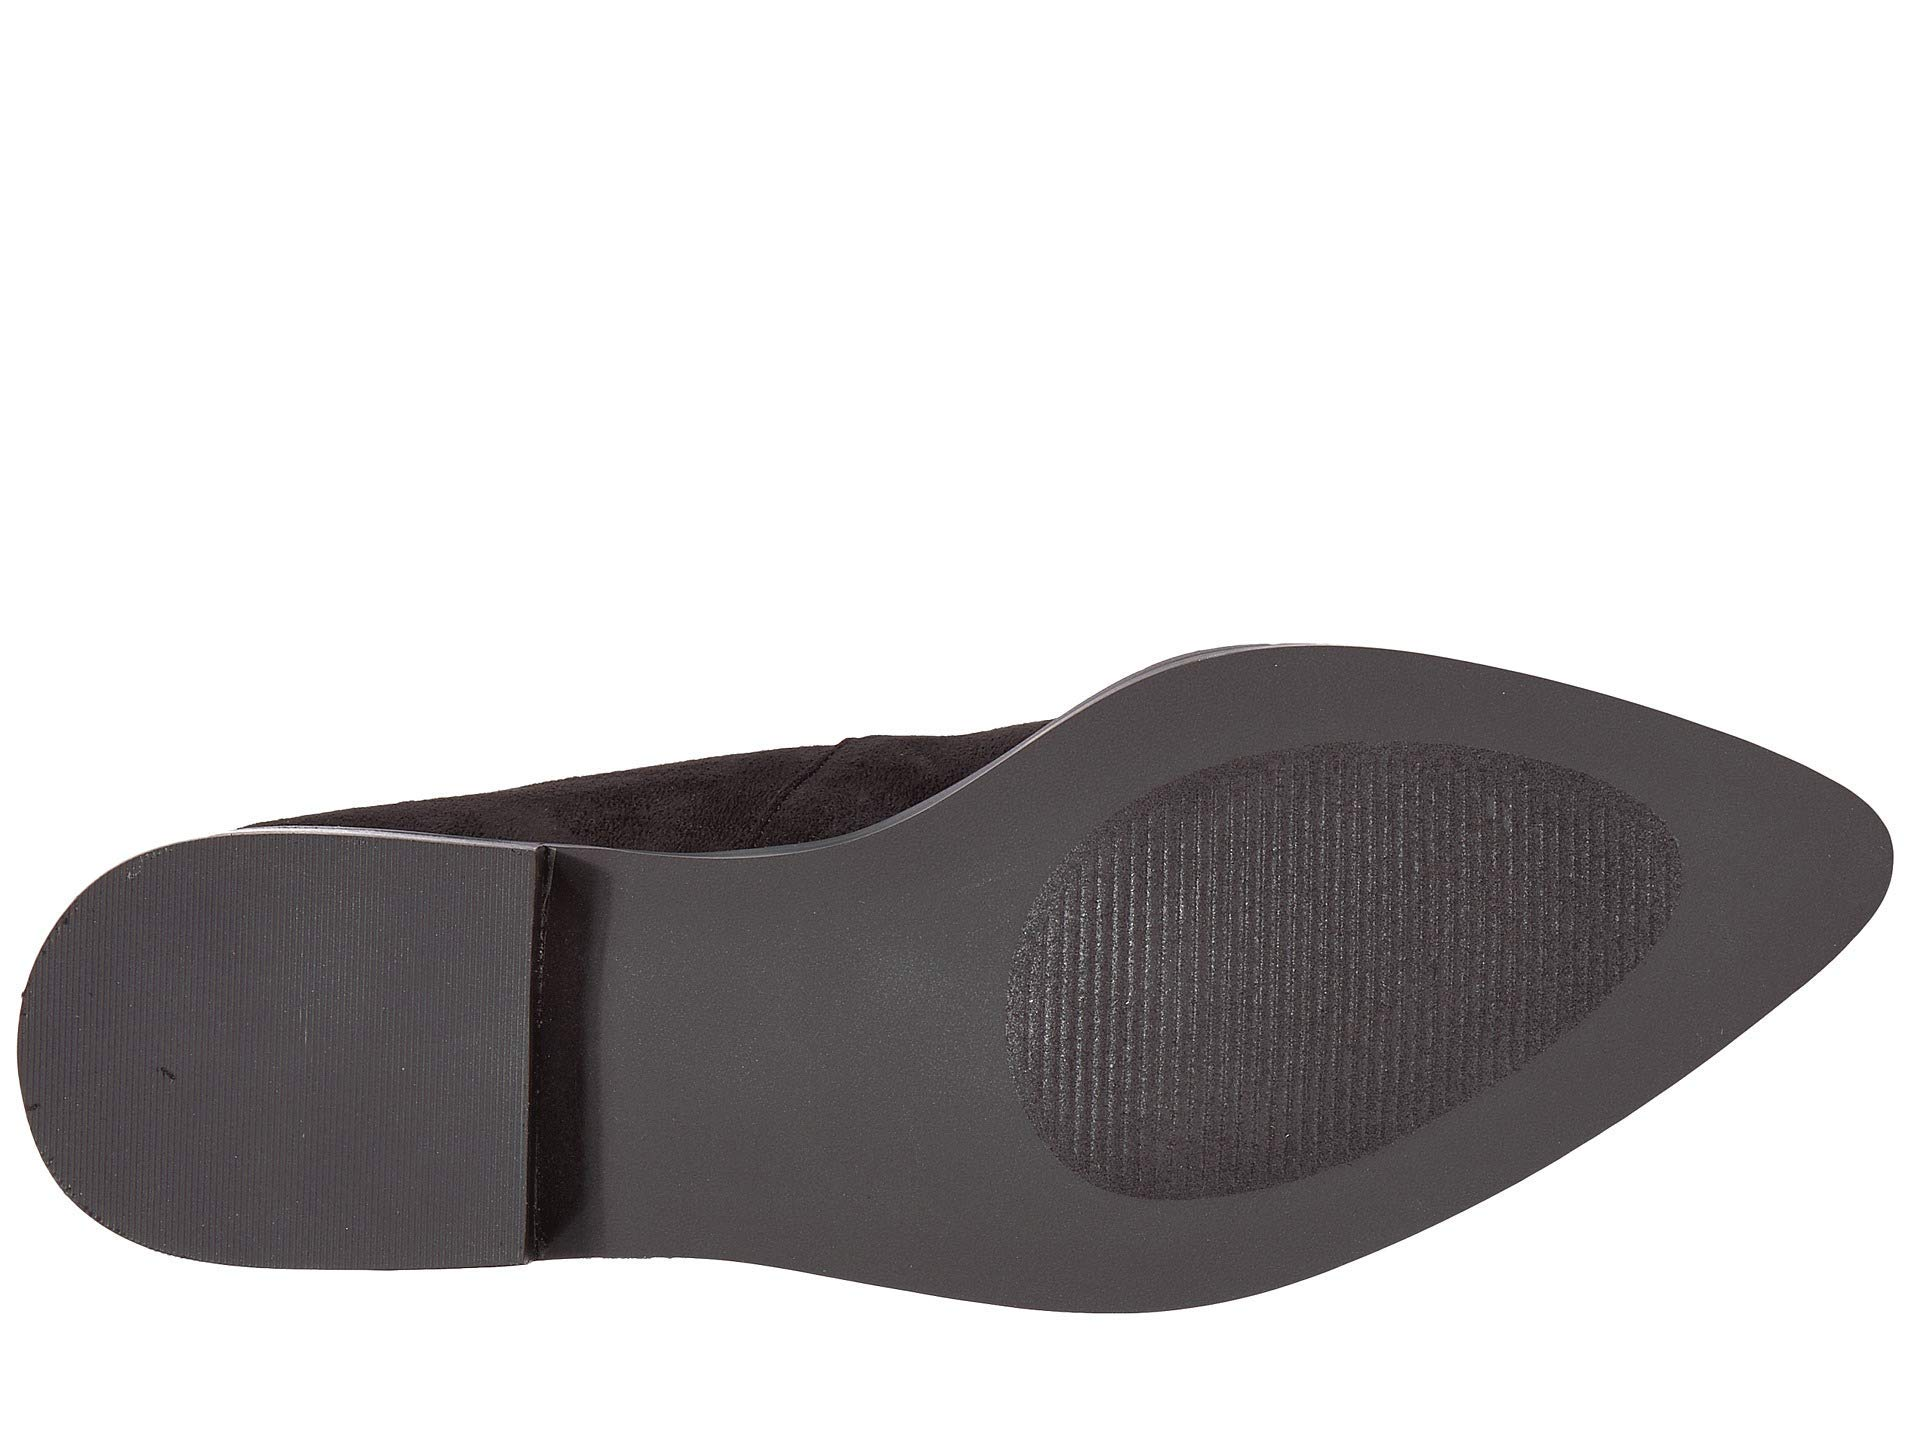line: (1129, 821, 1432, 1113)
